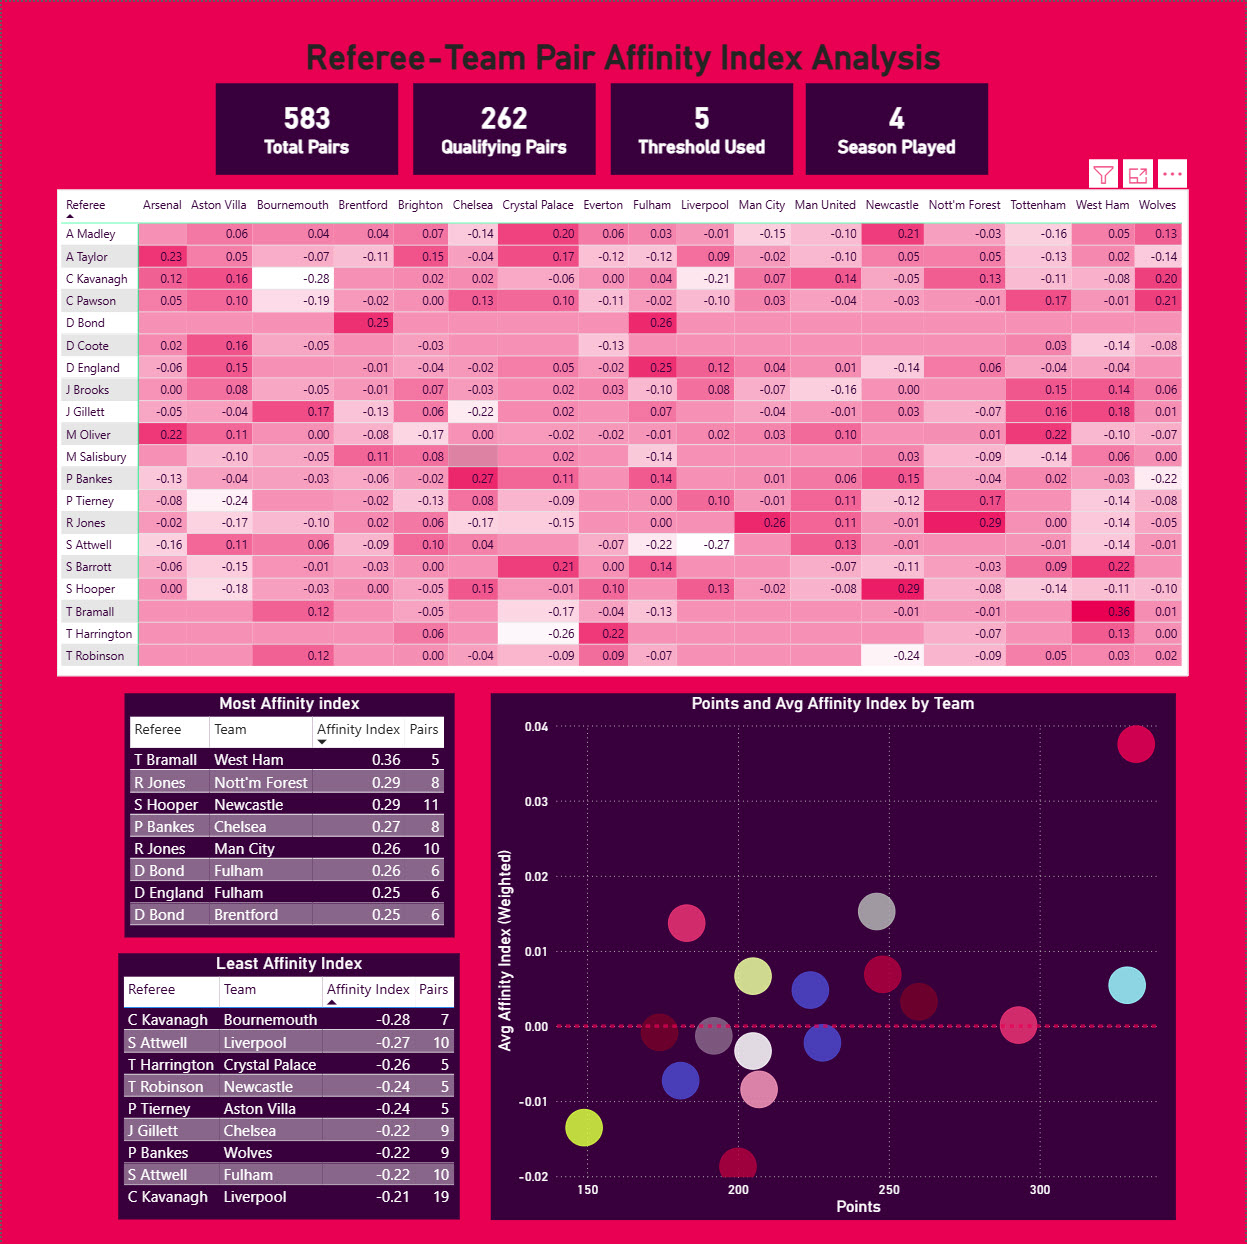

This screenshot's page, from the dashboard's own definition file:
{"tool":"powerbi","page":{"name":"Referee Team Bias","canvas":[1400,1400],"ordinal":2},"visuals":[{"type":"cardVisual","fields":{"Data":["referee_team_affinity.Qualifying Pairs"]},"box":[464,92,205.7,102.9],"z":0},{"type":"cardVisual","fields":{"Data":["referee_team_affinity.Total Pairs (All)"]},"box":[241.2,92,205.7,102.9],"z":1000},{"type":"cardVisual","fields":{"Data":["referee_team_affinity.Threshold Used"]},"box":[685.5,92,205.7,102.9],"z":2000},{"type":"pivotTable","fields":{"Rows":["referee_team_affinity.referee"],"Columns":["referee_team_affinity.team"],"Values":["referee_team_affinity.Filtered Affinity Index"]},"box":[61.7,211.7,1275,548.3],"z":3000},{"type":"tableEx","title":"Most Affinity index","fields":{"Values":["referee_team_affinity.referee","referee_team_affinity.team","referee_team_affinity.shrunk_affinity_index","referee_team_affinity.pair_n"]},"box":[138.3,778.3,371.7,275],"z":4000},{"type":"tableEx","title":"Least Affinity Index","fields":{"Values":["referee_team_affinity.referee","referee_team_affinity.team","referee_team_affinity.shrunk_affinity_index","referee_team_affinity.pair_n"]},"box":[131.7,1071.7,385,300],"z":5000},{"type":"cardVisual","fields":{"Data":["referee_team_affinity.Season Played"]},"box":[905.5,92,205.7,102.9],"z":6000},{"type":"scatterChart","title":"Points and Avg Affinity Index by Team","fields":{"X":["fact_team_match.Sum of Points"],"Series":["dim_team.team_name"],"Y":["referee_team_affinity.Avg Affinity Index (Weighted)"]},"box":[550,778.3,771.7,593.3],"z":7000},{"type":"textbox","box":[0,35,1400,56.7],"z":8000}]}

Visuals, with their boxes in screenshot pixels (x1, y1, x2, y2), scaled from the page's 1400x1400 canvas onto the 1247x1244 screenshot:
cardVisual - referee_team_affinity.Qualifying Pairs: crop(413, 82, 597, 173)
cardVisual - referee_team_affinity.Total Pairs (All): crop(215, 82, 398, 173)
cardVisual - referee_team_affinity.Threshold Used: crop(611, 82, 794, 173)
pivotTable - referee_team_affinity.referee x referee_team_affinity.team: crop(55, 188, 1191, 675)
"Most Affinity index" tableEx: crop(123, 692, 454, 936)
"Least Affinity Index" tableEx: crop(117, 952, 460, 1219)
cardVisual - referee_team_affinity.Season Played: crop(807, 82, 990, 173)
"Points and Avg Affinity Index by Team" scatterChart: crop(490, 692, 1177, 1219)
textbox: crop(0, 31, 1246, 81)
